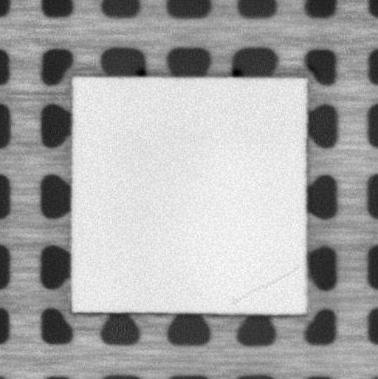DIE_CRACK: (233, 265, 301, 305)
